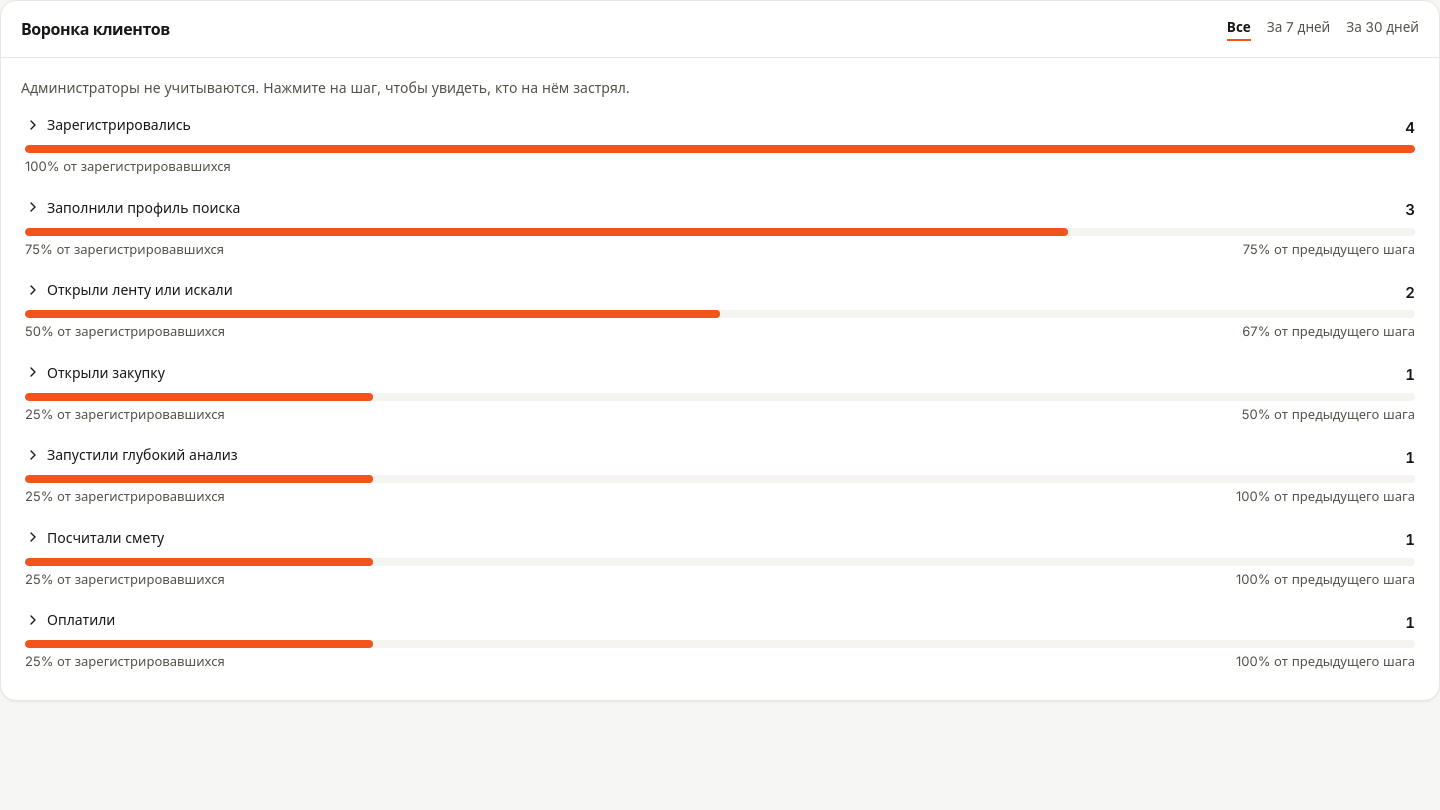
it: AdminFunnel › истёкший, оплаченный и не заходивший подписаны словами
Click the button that starts with "Открыли ленту или искали": (720, 311) [21,271,1419,350]
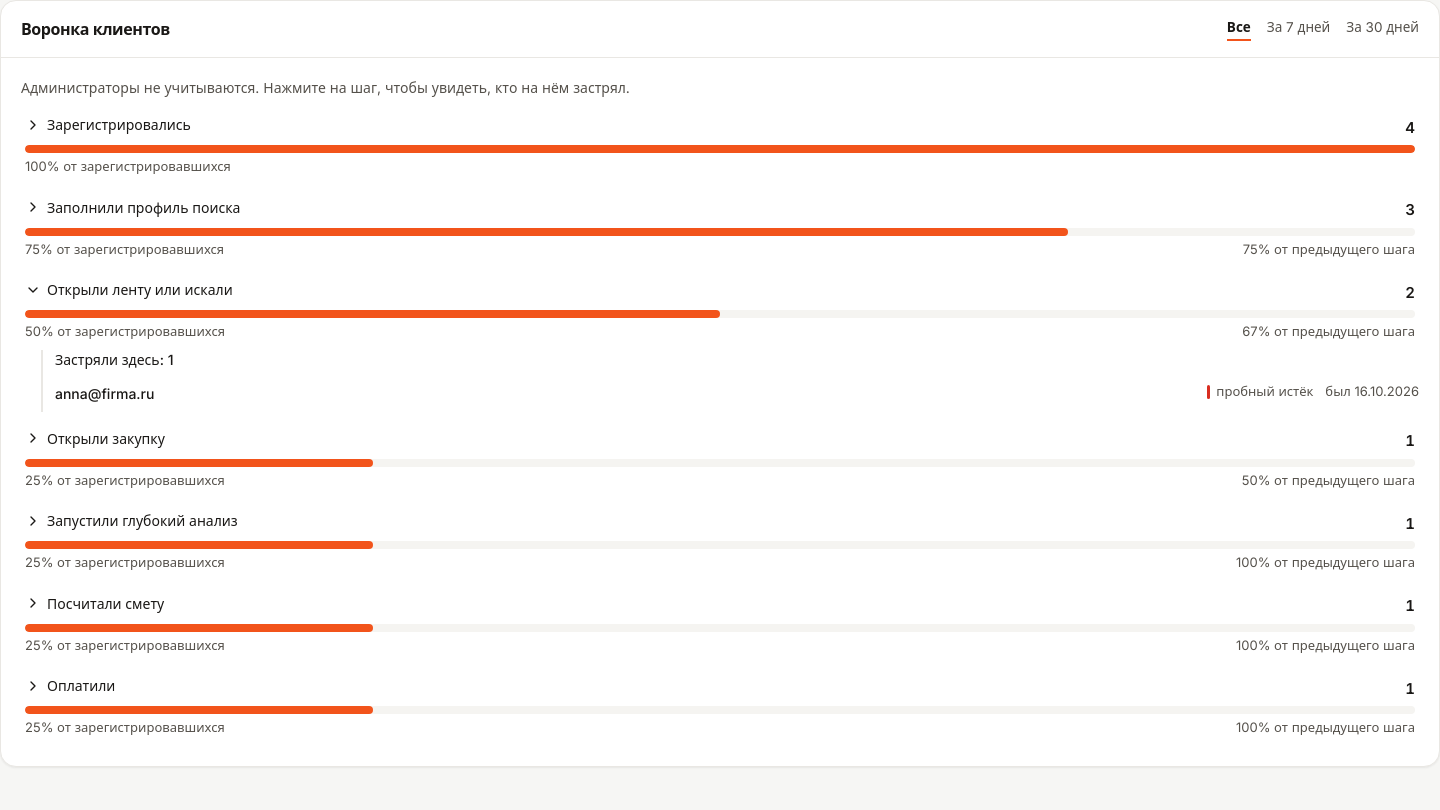
Now the text "пробный истёк" is shown, box [1207,382,1313,401]
Click the button "Зарегистрировались 4 100% от зарегистрировавшихся": (720, 146) [21,106,1419,185]
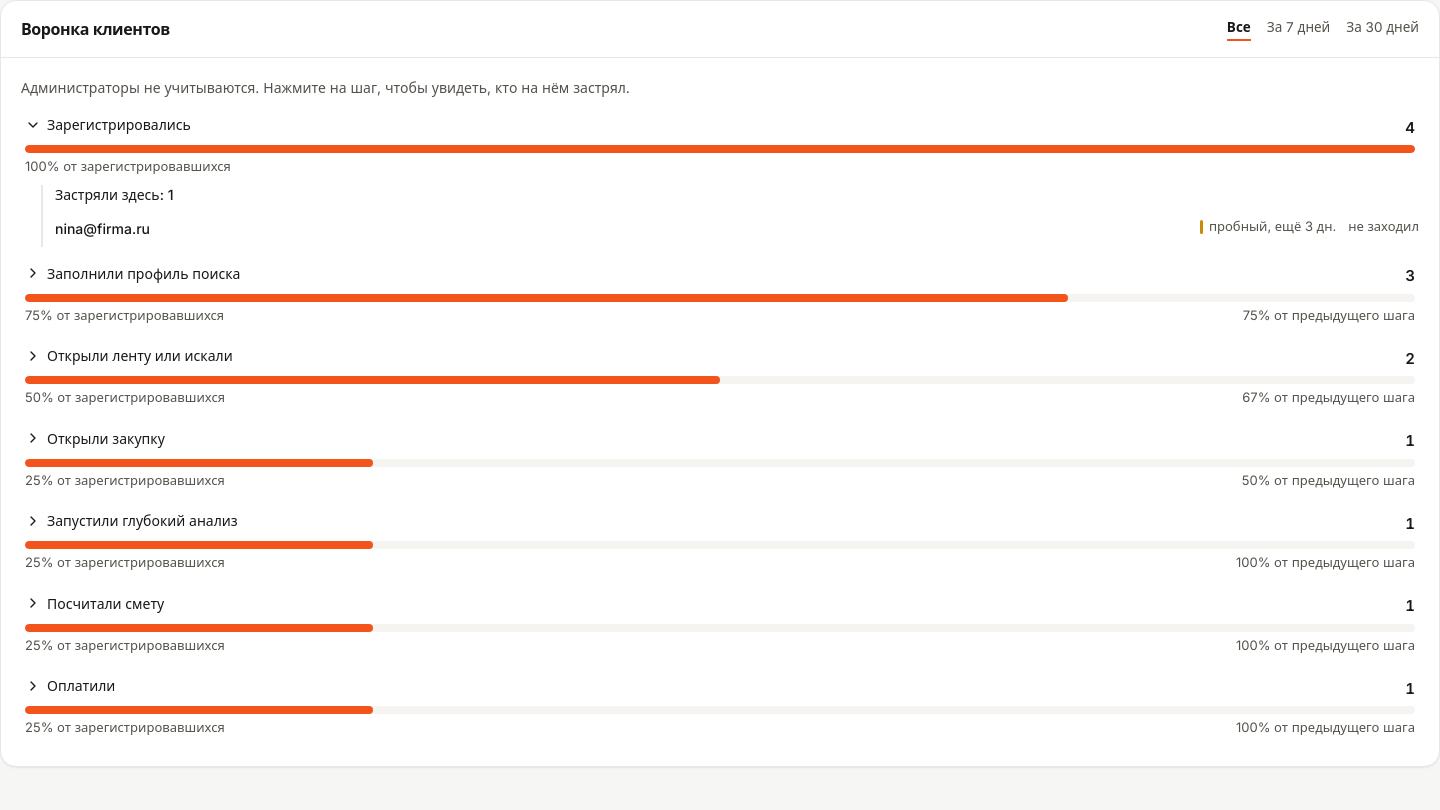
Now the text "не заходил" is shown, box [1348,217,1419,236]
// Последний шаг показывает оплативших.
Click the button that starts with "Оплатили": (720, 706) [21,667,1419,746]
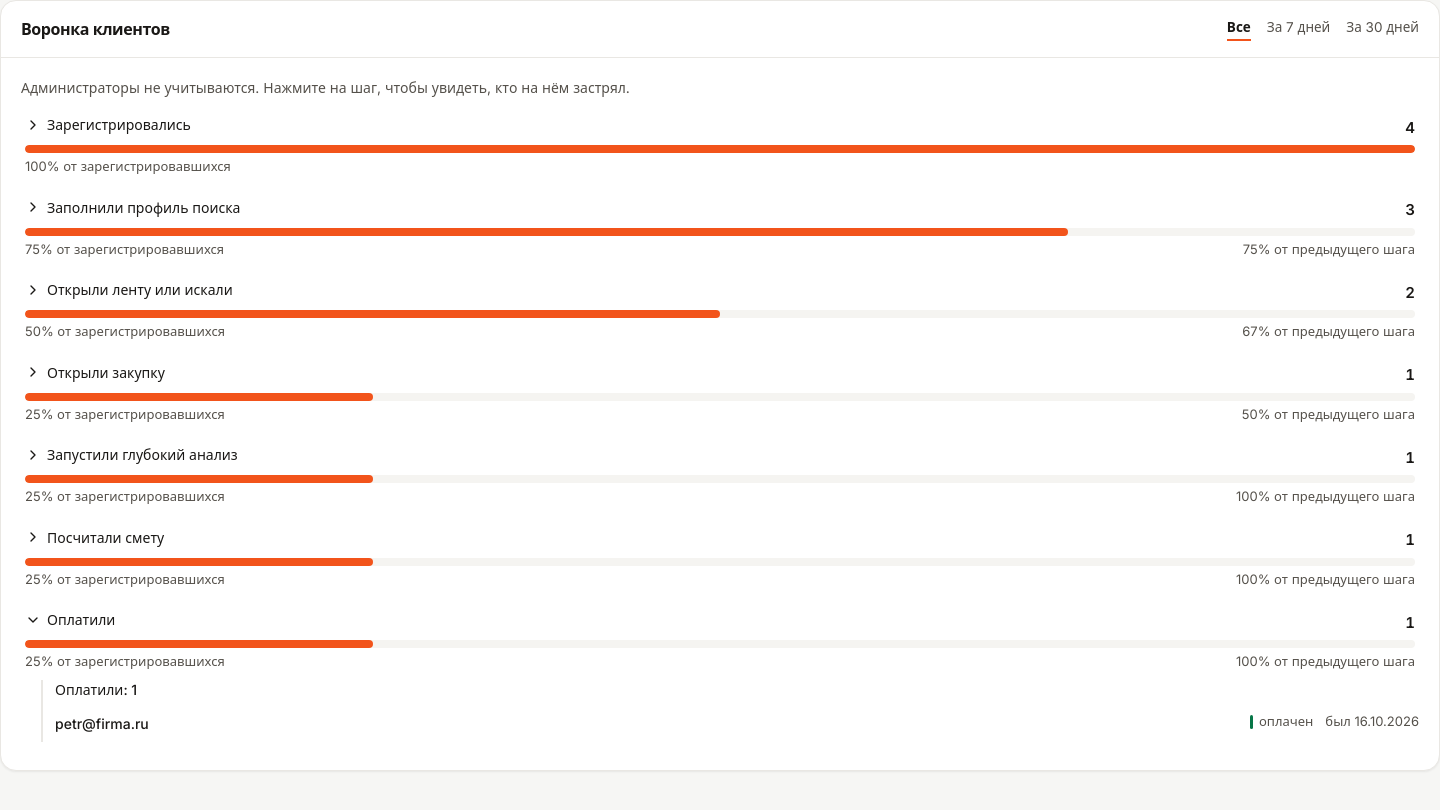
Now the text "Оплатили: 1" is shown, box [55,681,137,698]
Now the text "оплачен" is shown, box [1250,712,1313,731]
